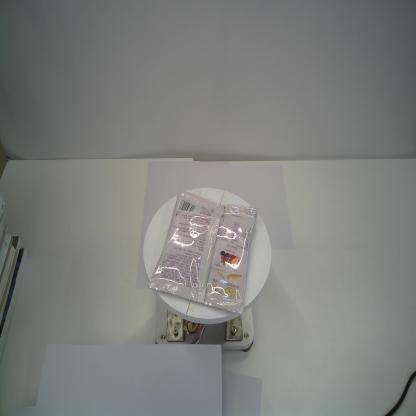Instant Drink: (148, 188, 257, 315)
